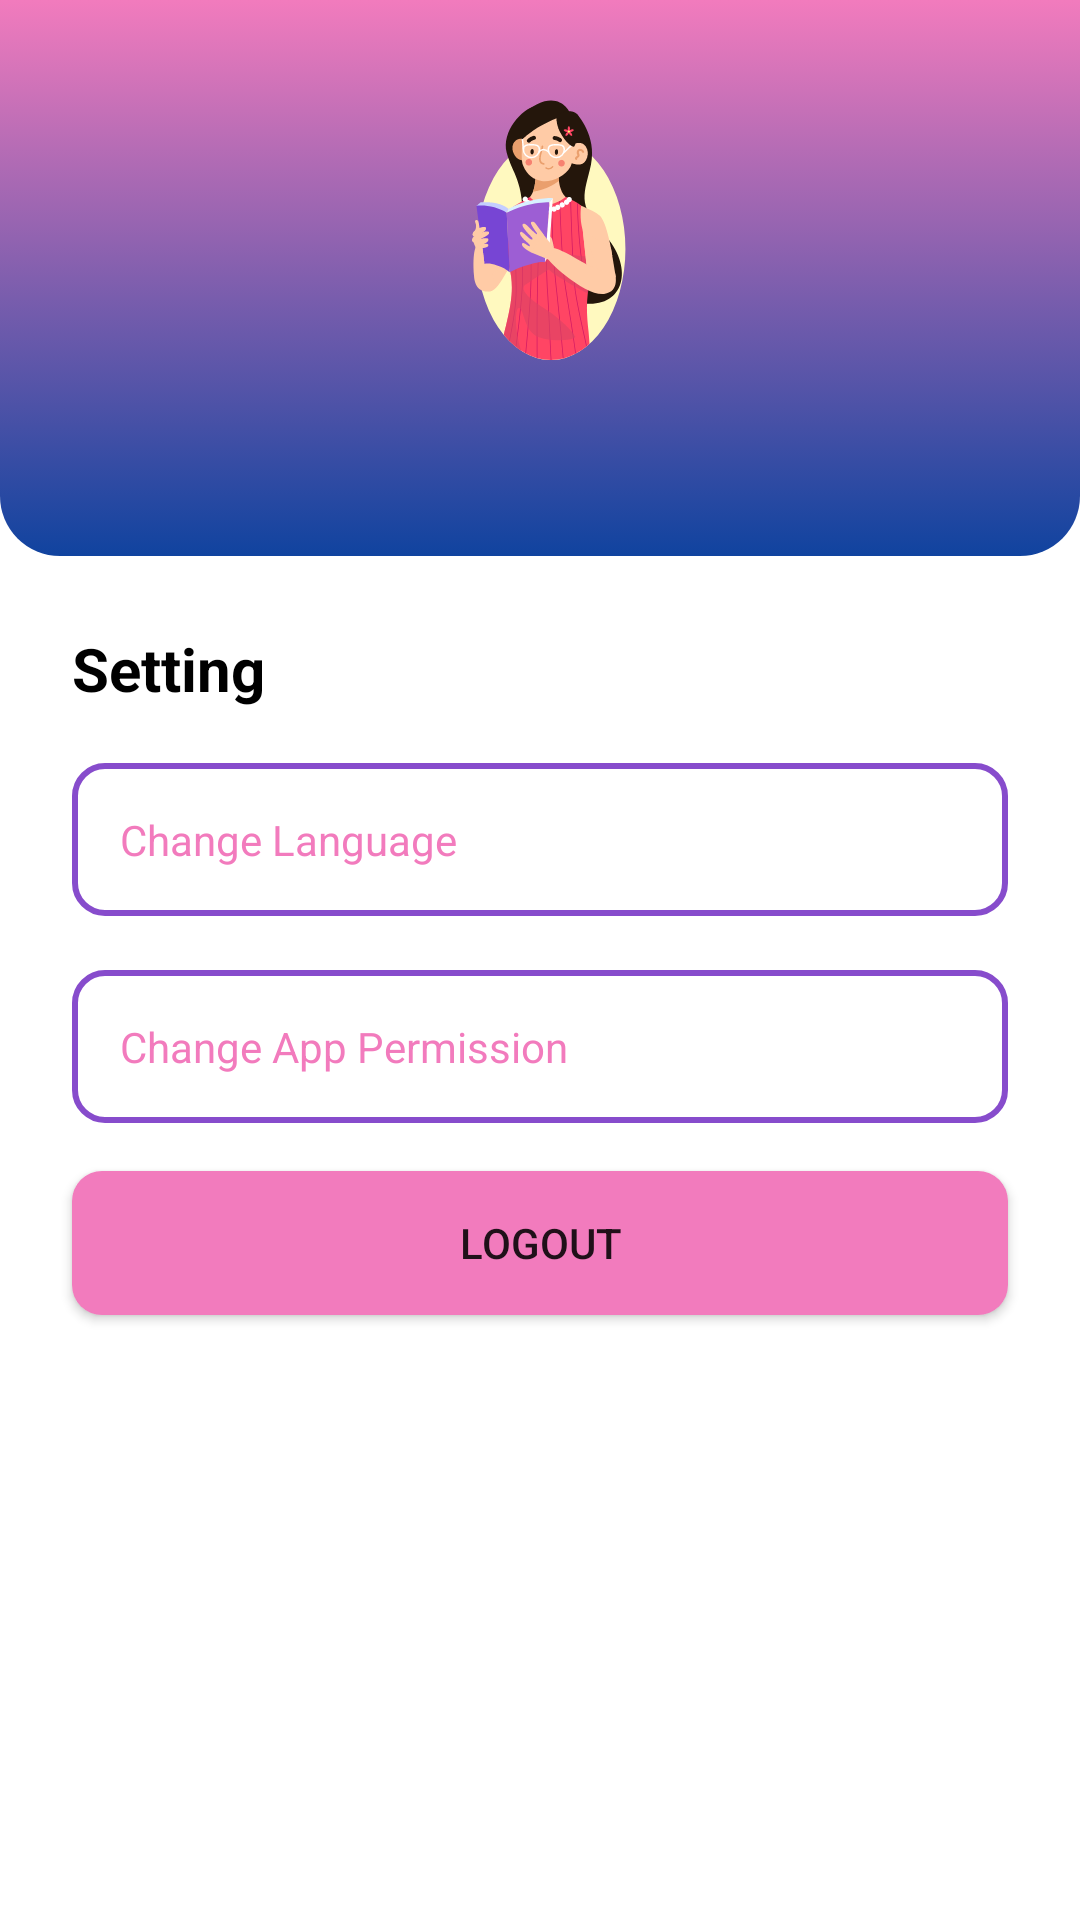

Named icons in this screenshot (1080px×1920px) and their centers, [x,y]:
Default Avatar Image: [540,225]
